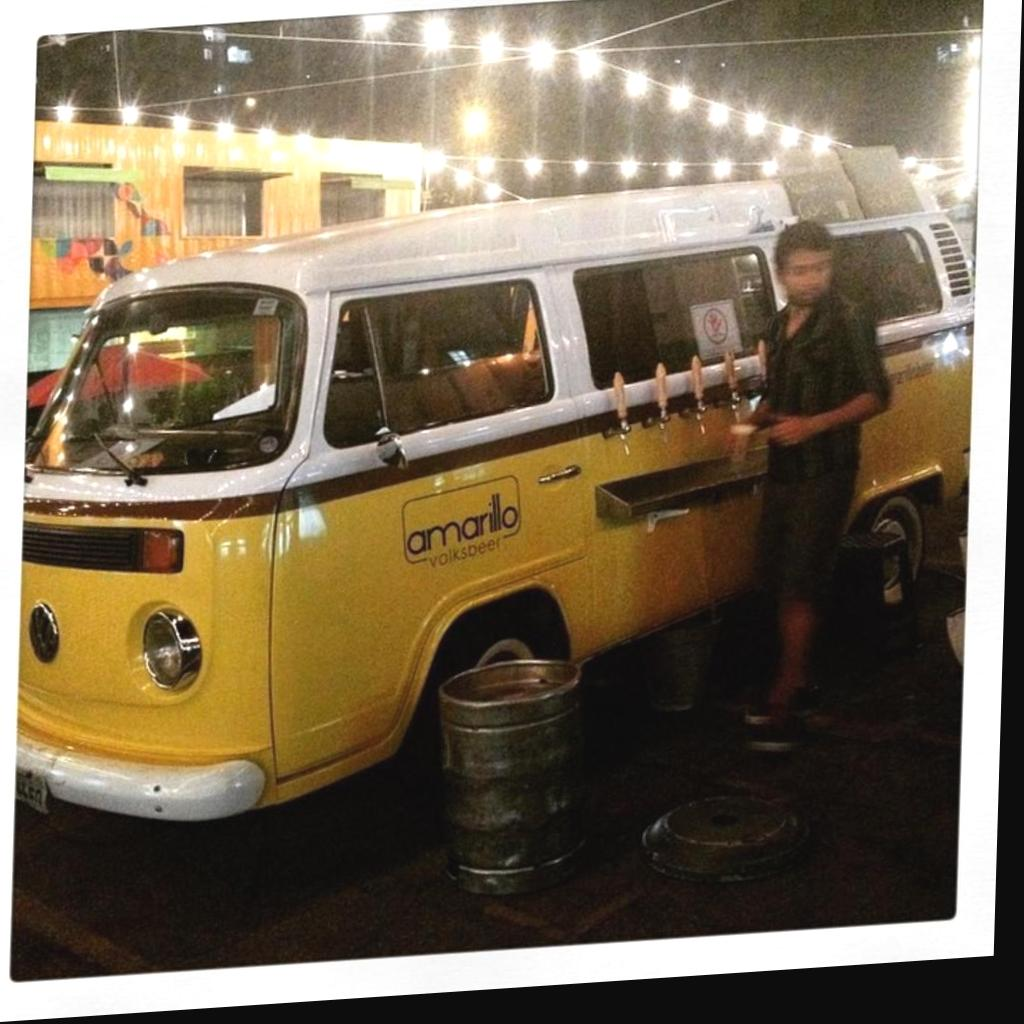License_Plate: (13, 769, 51, 808)
